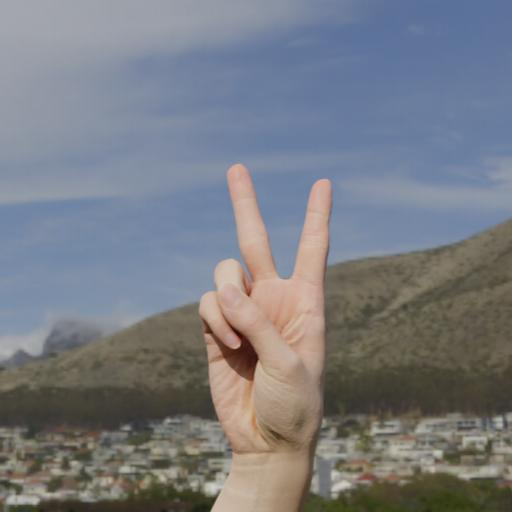V: (164, 124, 408, 488)
